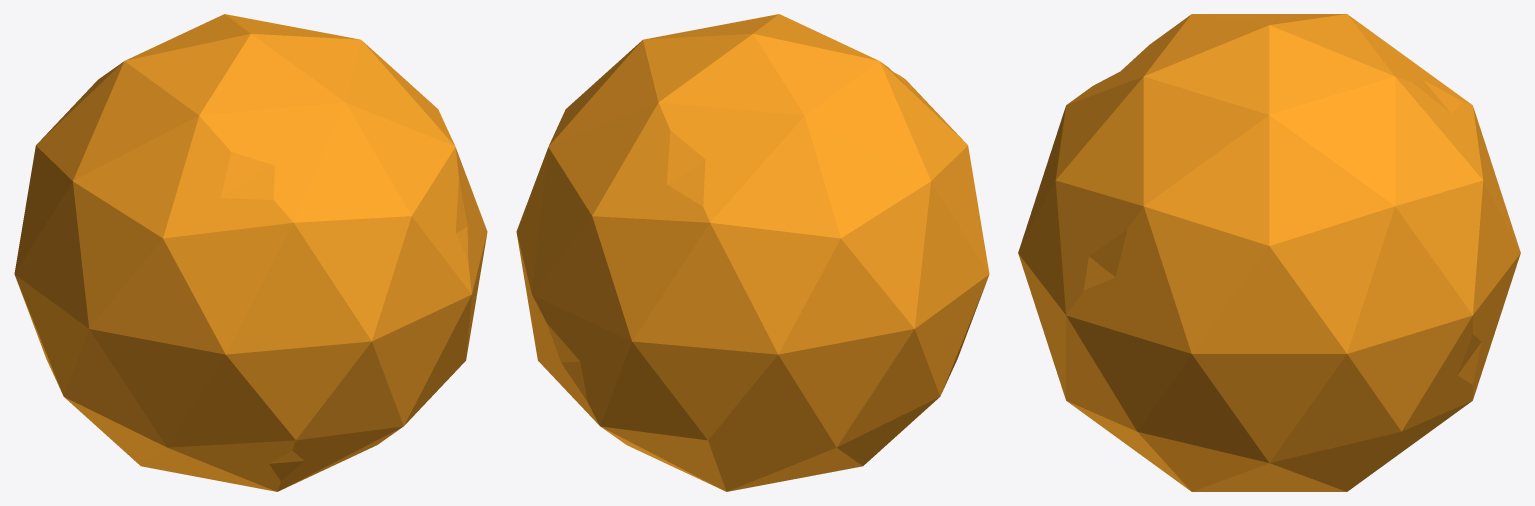
3 views of the same model, side by side, from view 1: azimuth 30°, elevation 25°; view 2: azimuth 150°, elevation 25°; view 3: azimuth 270°, elevation 25° (orthographic). The views are drawn at different scales.
Visible parts, largest first — view 1: SM_Primitive_Sphere_01P; view 2: SM_Primitive_Sphere_01P; view 3: SM_Primitive_Sphere_01P.
Boxes of the visible parts, x1,y1,x2,y2 form: SM_Primitive_Sphere_01P: (14, 14, 487, 491); SM_Primitive_Sphere_01P: (516, 14, 989, 491); SM_Primitive_Sphere_01P: (1018, 14, 1520, 491).
Bounding box in the file's own units: 95.36 × 100 × 100.
